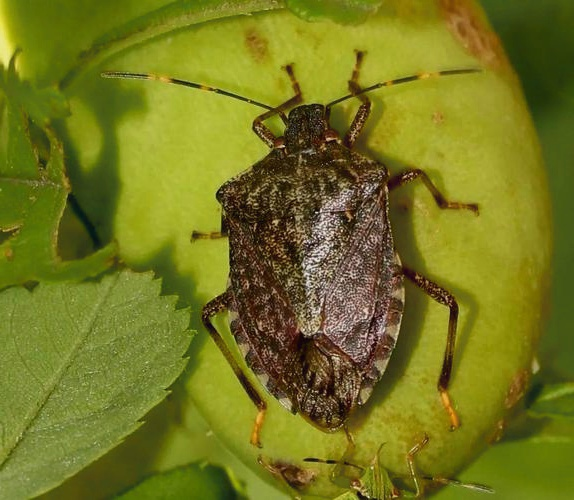Stink_Bug: (232, 79, 430, 413)
